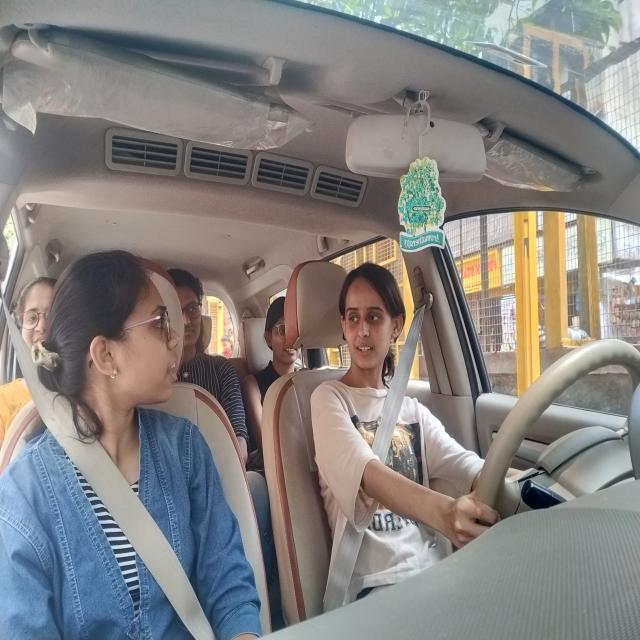LeftRight: (337, 257, 408, 378)
person: (55, 256, 188, 415), (168, 263, 206, 353), (263, 296, 301, 374), (20, 276, 55, 358)
talking: (166, 357, 182, 388), (354, 341, 376, 359)
